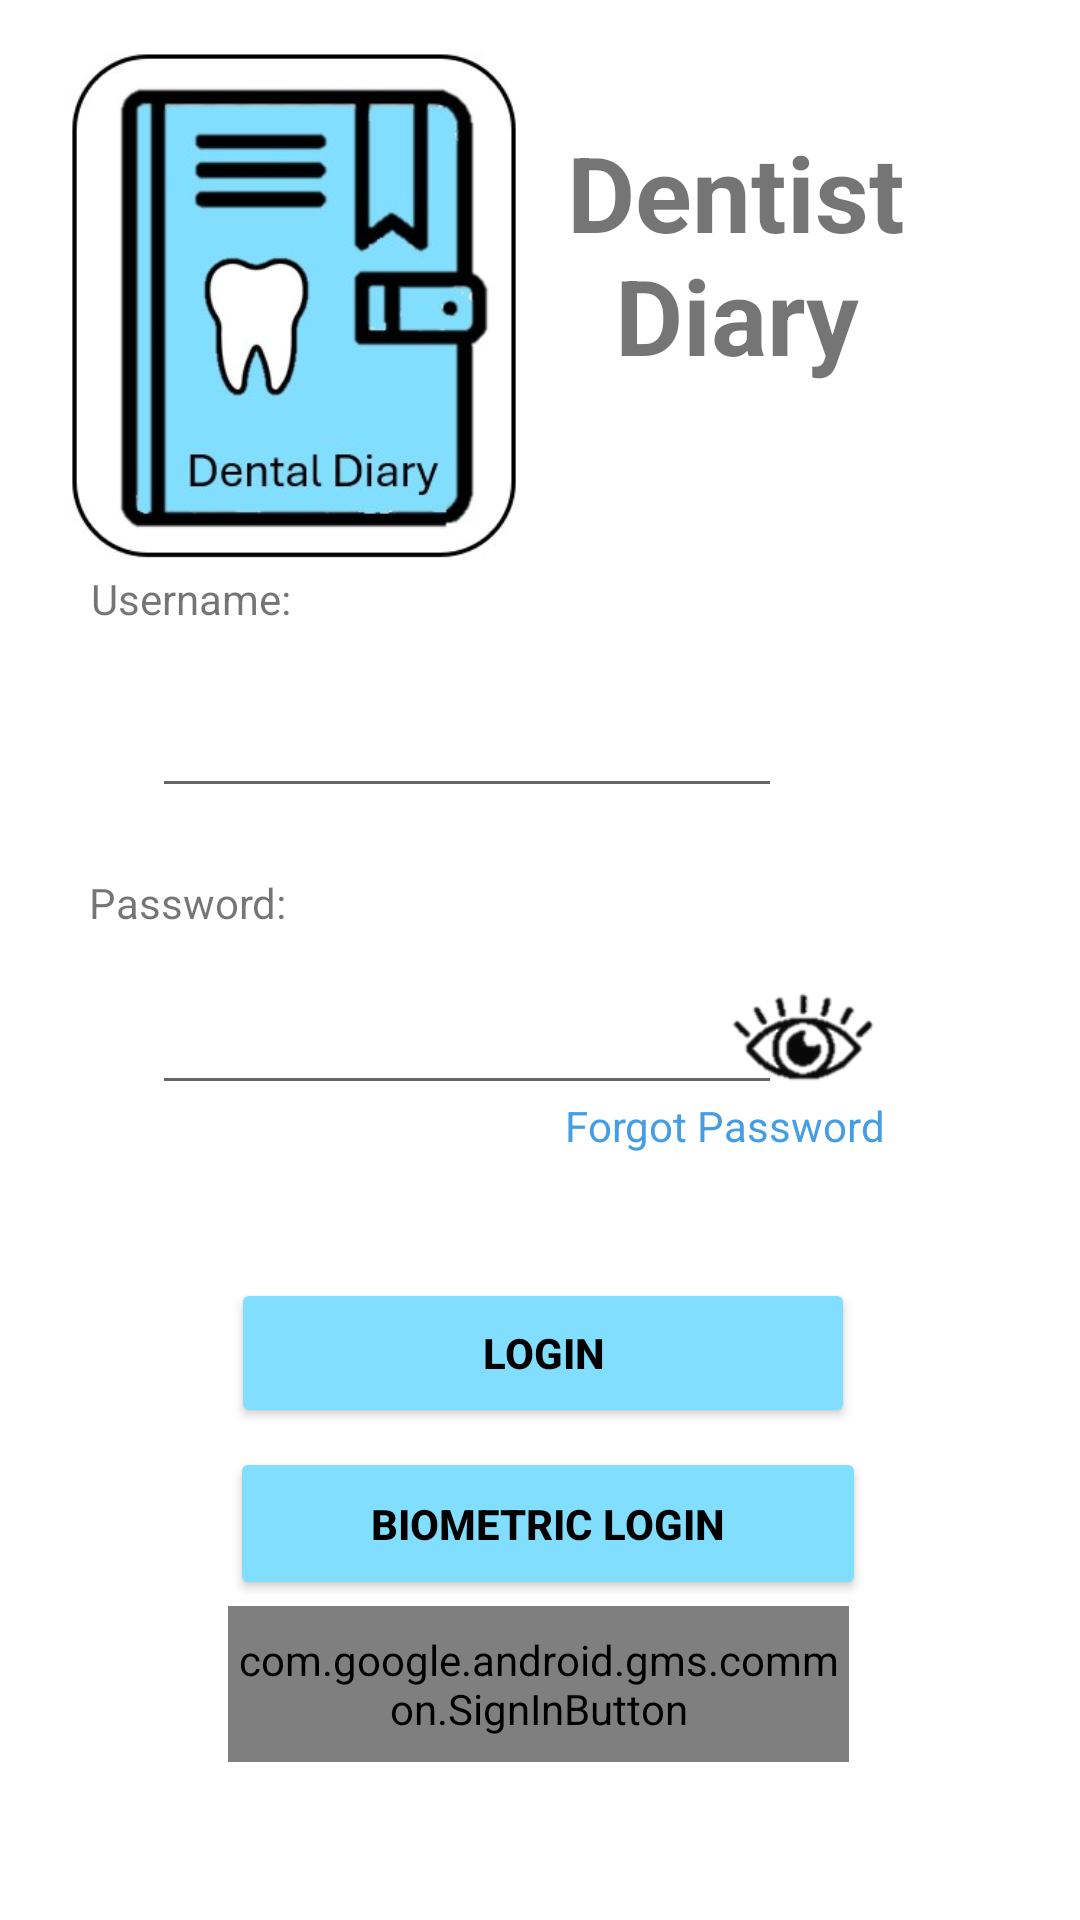

Named icons in this screenshot (1080w x 1920h) and their bounding boxes, (x1, y1, x2, y2):
visible: (733, 994, 873, 1080)
